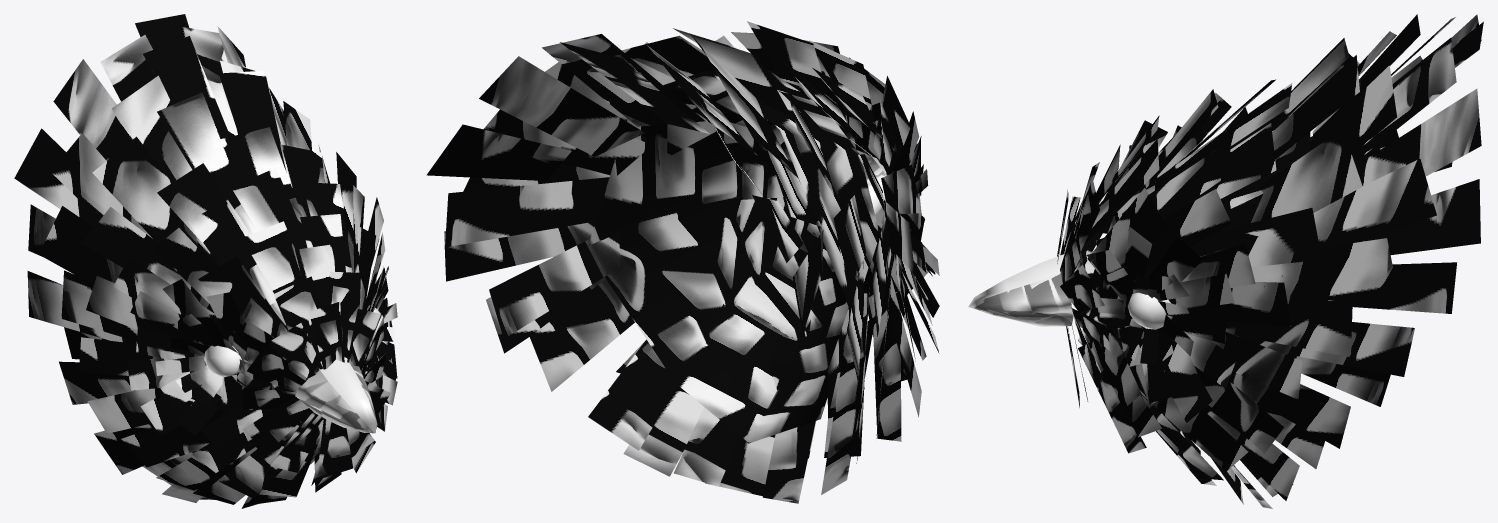
The model's file is BirdHeadHiRes.fbx.
3 renders of one model, left to right at view 1: azimuth 30°, elevation 25°; view 2: azimuth 150°, elevation 25°; view 3: azimuth 270°, elevation 25°, orthographic. The views are drawn at different scales.
Parts seen in each view (by area): view 1: polySurface1; view 2: polySurface1; view 3: polySurface1.
Boxes of the visible parts, <box> form: polySurface1: <box>14,14,397,508</box>; polySurface1: <box>426,21,939,503</box>; polySurface1: <box>968,14,1483,508</box>.
Size of the model in its own units: 12.19 by 15.45 by 15.66.
